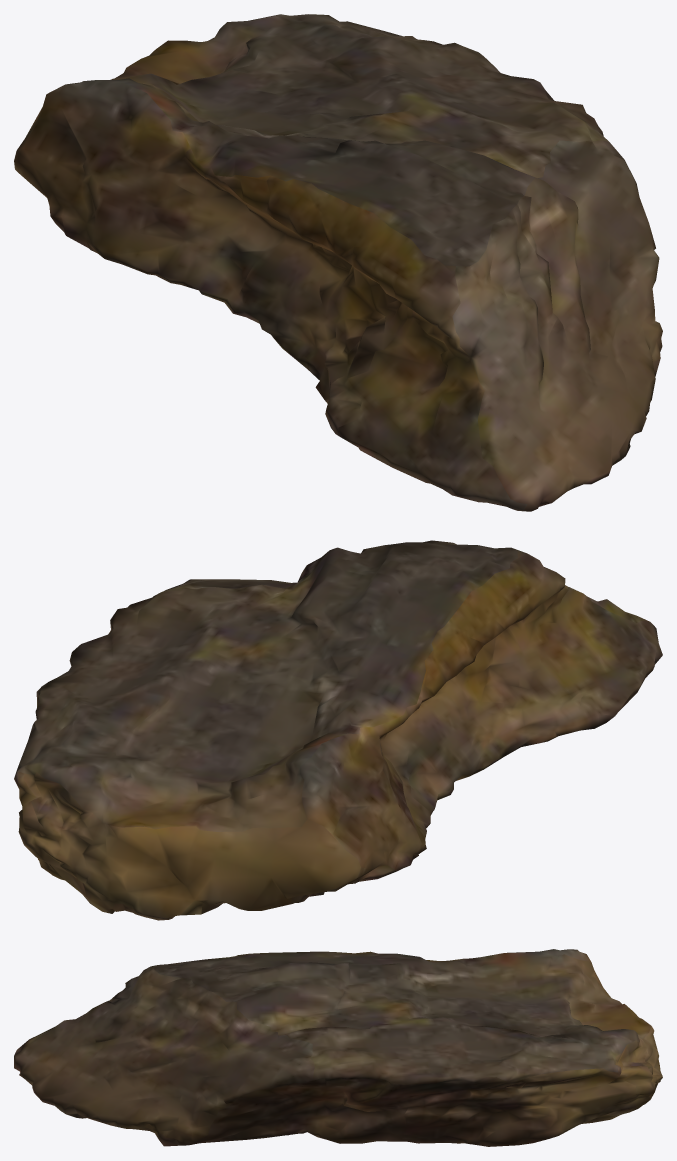
File: rock_09_lod1.glb
3 views of the same model, one above another, from view 1: azimuth 30°, elevation 25°; view 2: azimuth 150°, elevation 25°; view 3: azimuth 270°, elevation 25° (orthographic). The views are drawn at different scales.
Parts seen in each view (by area): view 1: rock_09_LOD0; view 2: rock_09_LOD0; view 3: rock_09_LOD0.
Part boxes in pixels (<box>): rock_09_LOD0: <box>14,14,662,511</box>; rock_09_LOD0: <box>14,540,662,920</box>; rock_09_LOD0: <box>14,949,662,1146</box>.
Bounding box in the file's own units: 0.074 × 0.0328 × 0.1446.
1 material, 1 textured.
